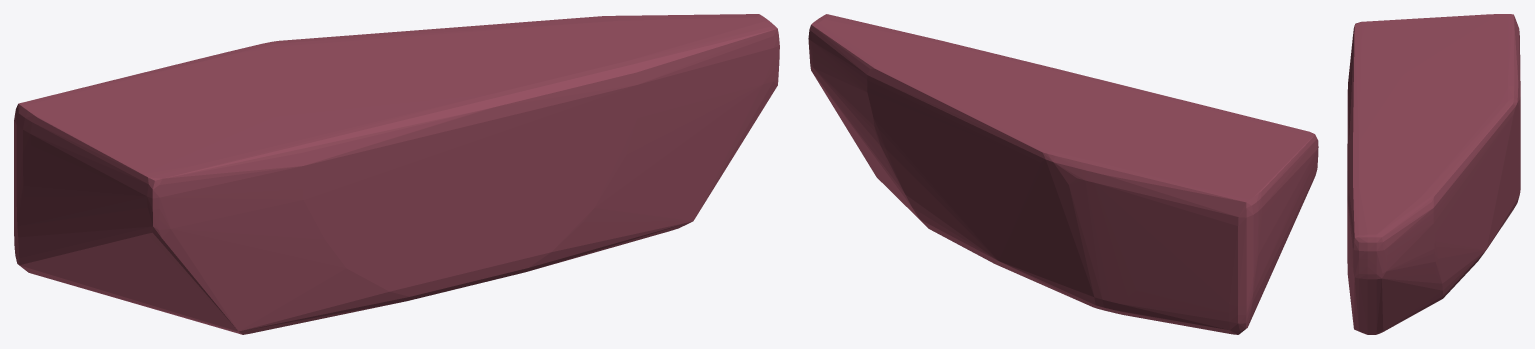
The model's file is left_hip_yaw_link_part_13.obj.
3 renders of one model, left to right at view 1: azimuth 30°, elevation 25°; view 2: azimuth 150°, elevation 25°; view 3: azimuth 270°, elevation 25°, orthographic. The views are drawn at different scales.
Size of the model in its own units: 0.1287 by 0.0342 by 0.0416.
